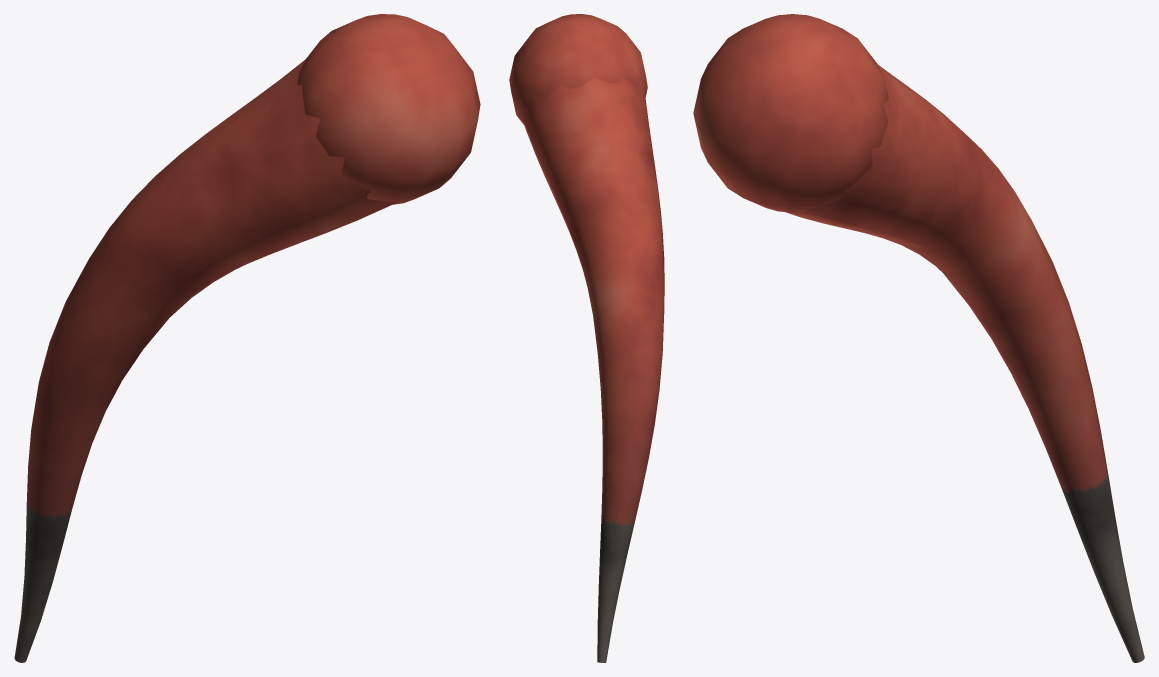
The model's file is headcrab_garra_tras_der.obj.
The picture shows the model from 3 angles, left to right: view 1: azimuth 30°, elevation 25°; view 2: azimuth 150°, elevation 25°; view 3: azimuth 270°, elevation 25°; orthographic projection. The views are drawn at different scales.
Visible parts, largest first — view 1: garra_tras_der; view 2: garra_tras_der; view 3: garra_tras_der.
Part boxes in pixels (box(x1,y1,x2,y2)): garra_tras_der: box(14, 14, 480, 662); garra_tras_der: box(509, 14, 664, 662); garra_tras_der: box(693, 14, 1144, 662).
Bounding box in the file's own units: 0.0846 × 0.1885 × 0.1044.
